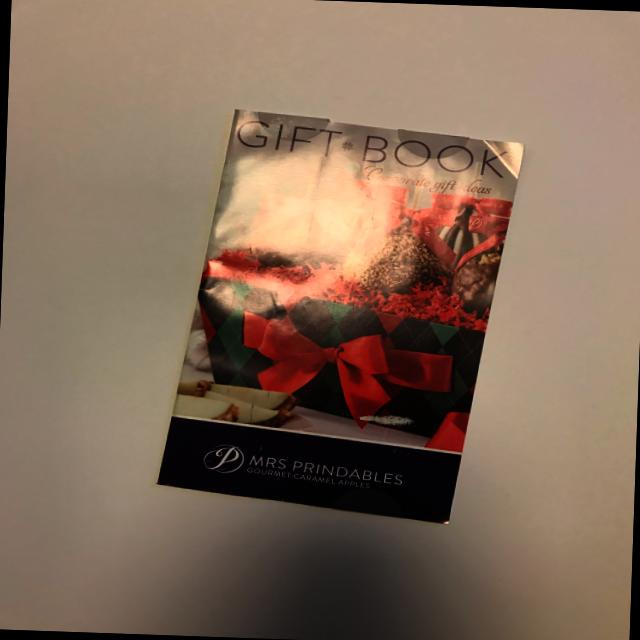Paper: (132, 77, 546, 548)
